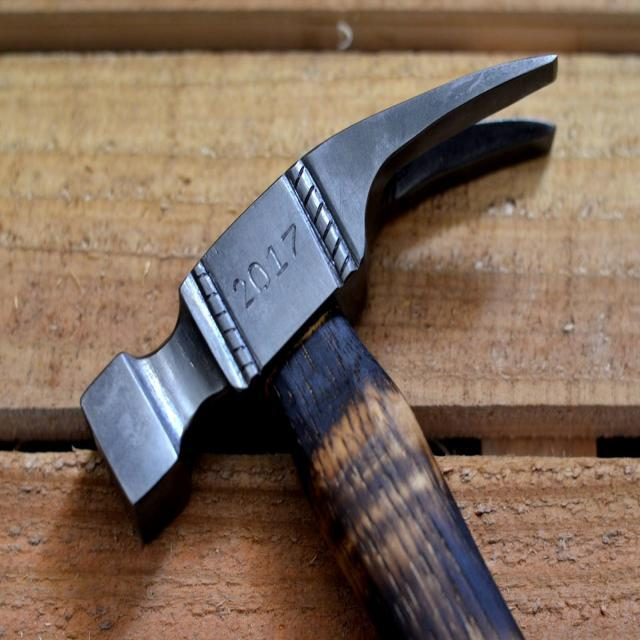hammer: (77, 41, 572, 640)
